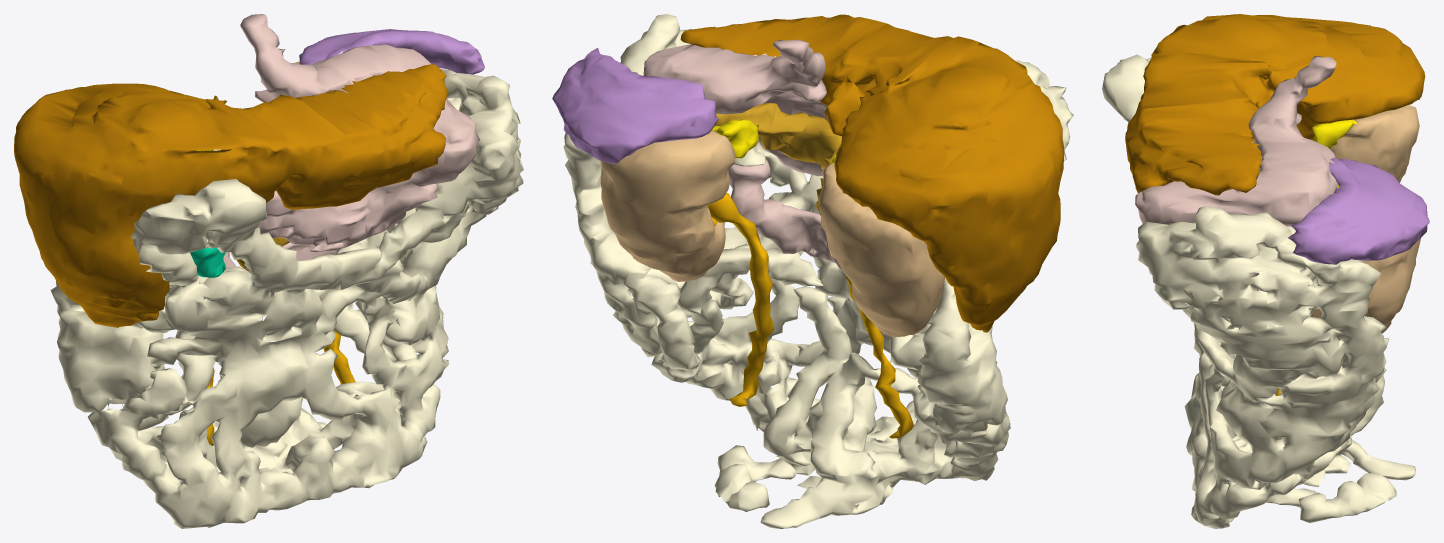
File: Abdominal Organs.gltf
3 renders of one model, left to right at view 1: azimuth 30°, elevation 25°; view 2: azimuth 150°, elevation 25°; view 3: azimuth 270°, elevation 25°, orthographic. The views are drawn at different scales.
Visible parts, largest first — view 1: colon and ileum, liver, stomach and duodenum, spleen, gallbladder, left ureter; view 2: colon and ileum, liver, stomach and duodenum, left kidney, spleen, right kidney, pancreas, left ureter, right ureter, left adrenal gland; view 3: colon and ileum, liver, stomach and duodenum, spleen, right kidney, left kidney, right adrenal gland.
Boxes of the visible parts, x1=… form: colon and ileum: x1=50, y1=69, x2=523, y2=528; liver: x1=14, y1=64, x2=448, y2=327; stomach and duodenum: x1=223, y1=14, x2=479, y2=271; spleen: x1=299, y1=29, x2=484, y2=74; gallbladder: x1=190, y1=244, x2=225, y2=277; left ureter: x1=323, y1=331, x2=355, y2=383; colon and ileum: x1=563, y1=14, x2=1073, y2=528; liver: x1=680, y1=14, x2=1064, y2=332; stomach and duodenum: x1=643, y1=39, x2=842, y2=270; left kidney: x1=600, y1=131, x2=735, y2=281; spleen: x1=552, y1=48, x2=718, y2=164; right kidney: x1=819, y1=163, x2=944, y2=337; pancreas: x1=715, y1=103, x2=841, y2=215; left ureter: x1=707, y1=193, x2=773, y2=406; right ureter: x1=845, y1=275, x2=913, y2=438; left adrenal gland: x1=711, y1=118, x2=758, y2=158; colon and ileum: x1=1102, y1=54, x2=1415, y2=528; liver: x1=1125, y1=14, x2=1425, y2=195; stomach and duodenum: x1=1135, y1=56, x2=1338, y2=273; spleen: x1=1288, y1=158, x2=1429, y2=264; right kidney: x1=1330, y1=104, x2=1419, y2=182; left kidney: x1=1310, y1=238, x2=1420, y2=333; right adrenal gland: x1=1312, y1=119, x2=1357, y2=149.
Bounding box in the file's own units: 183 × 166 × 115.
